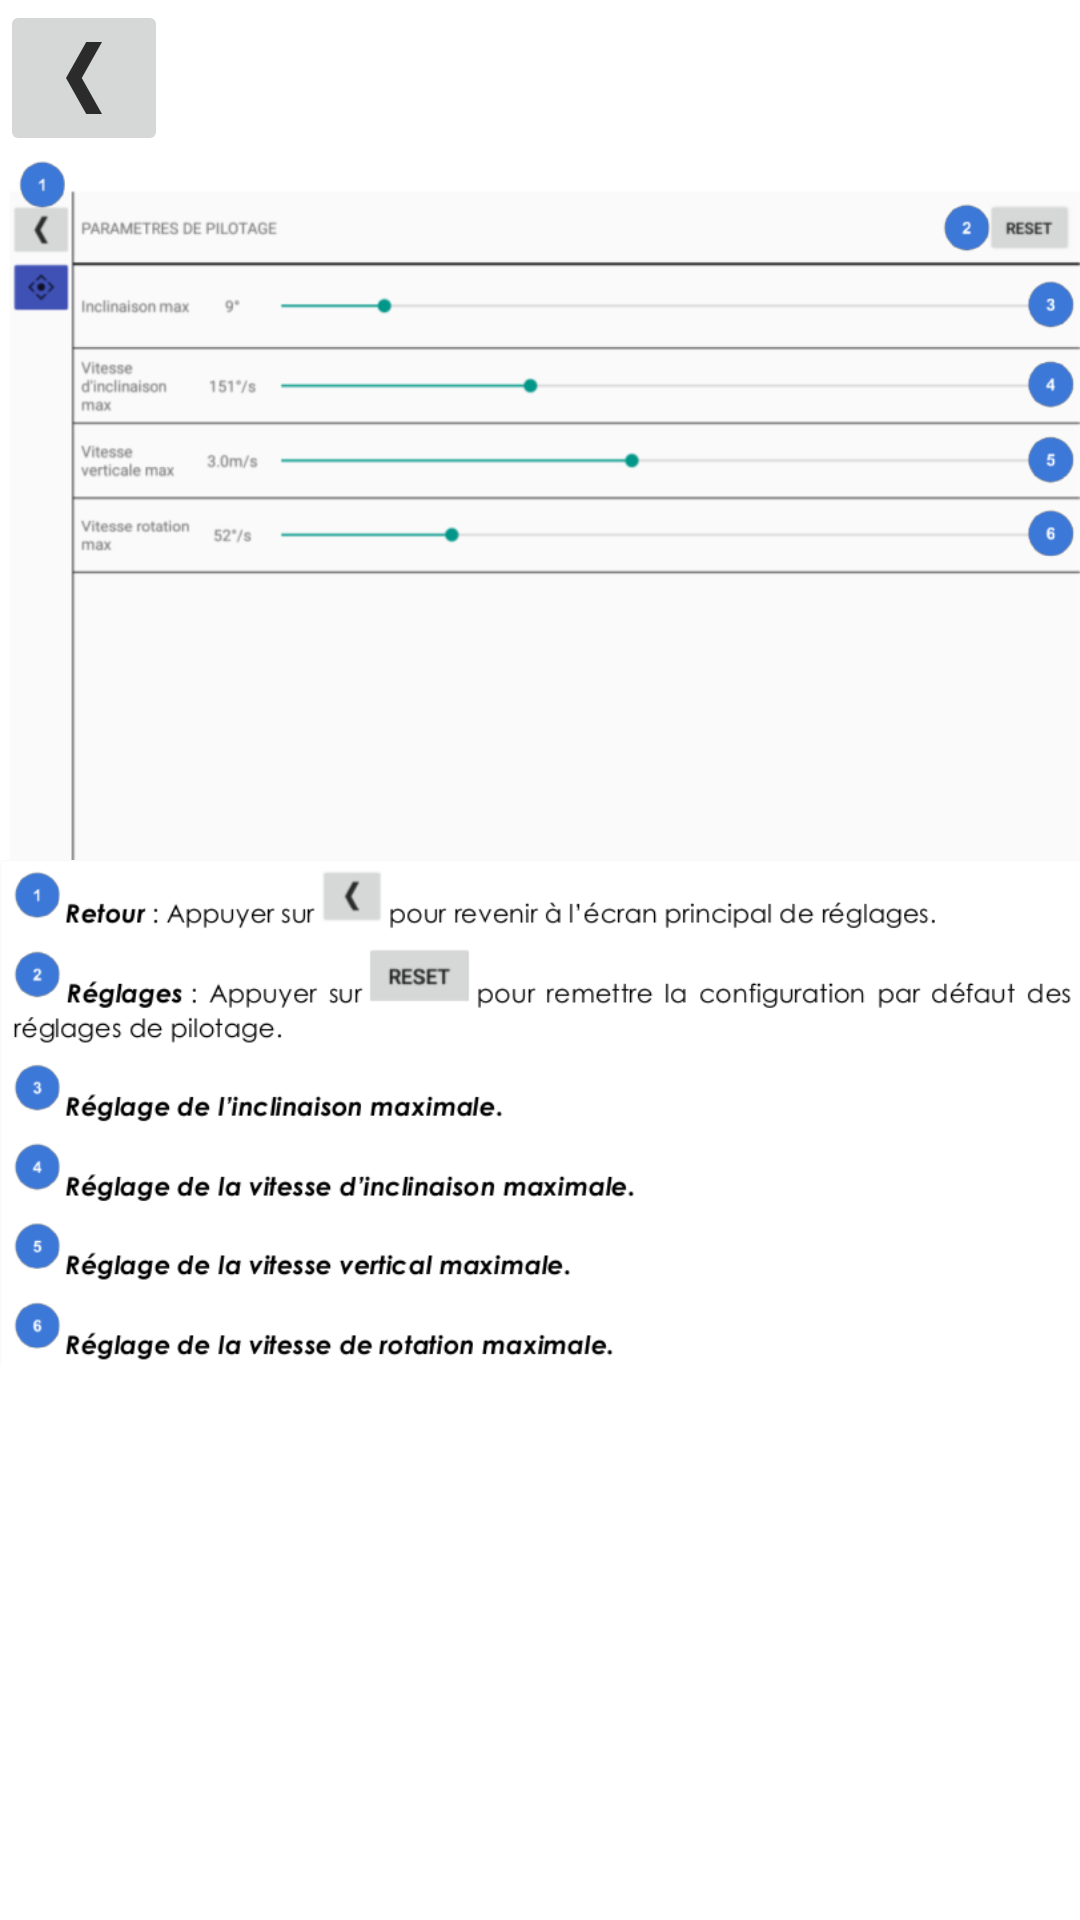

Screen size 1080×1920. Icon name, then its box in pixels as [x1=x1, y1=y1, x2=x2, y2=y2]:
bouton retour: [x1=12, y1=18, x2=156, y2=138]
